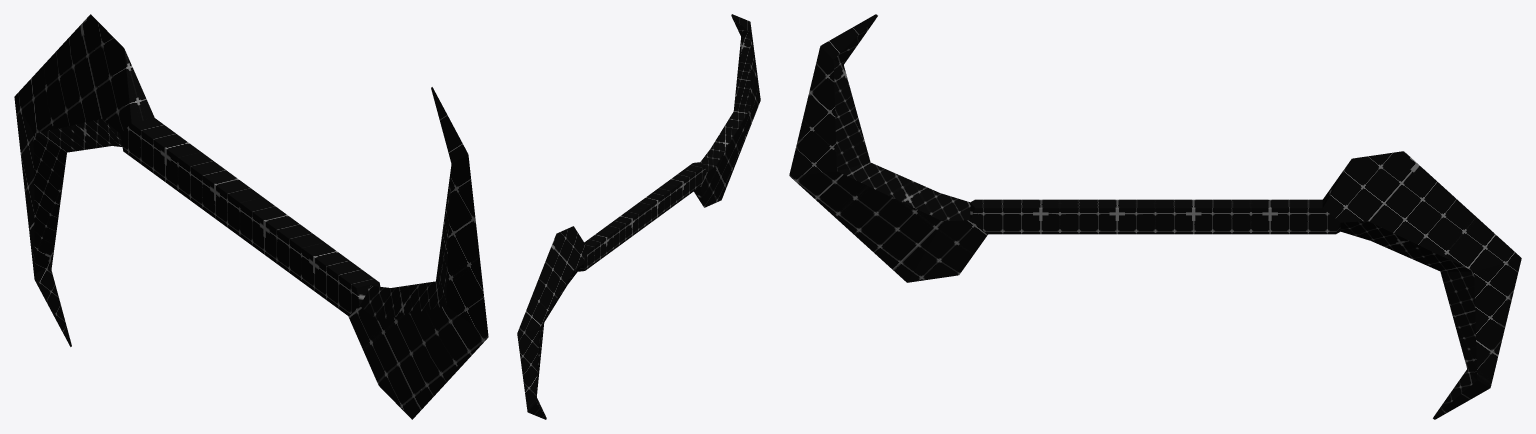
File: FlyingSickle_TestModel.fbx
3 renders of one model, left to right at view 1: azimuth 30°, elevation 25°; view 2: azimuth 150°, elevation 25°; view 3: azimuth 270°, elevation 25°, orthographic. The views are drawn at different scales.
Visible parts, largest first — view 1: Cube.002; view 2: Cube.002; view 3: Cube.002.
Part boxes in pixels (x1,y1,x2,y2): Cube.002: (14,14,488,419); Cube.002: (517,14,760,419); Cube.002: (789,14,1521,419).
Bounding box in the file's own units: 0.022 × 0.4764 × 0.7791.
1 material, 1 textured.
